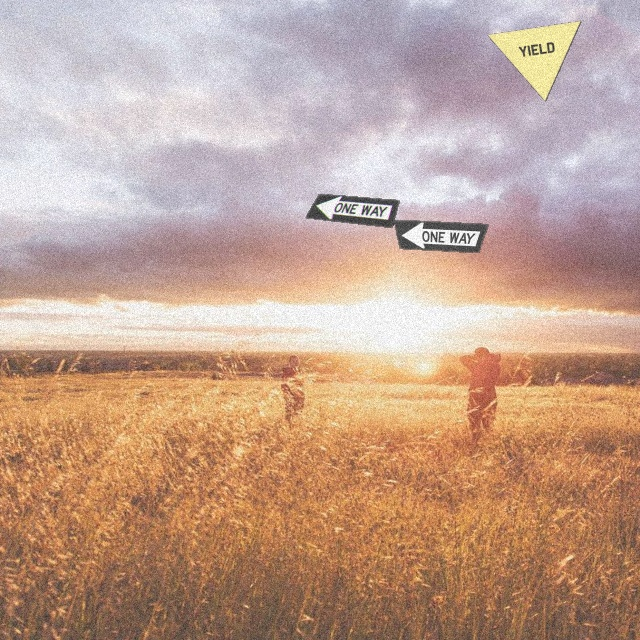ONE_WAY_ left: (304, 193, 400, 228), (393, 219, 489, 253)
YIELD: (486, 20, 582, 102)
